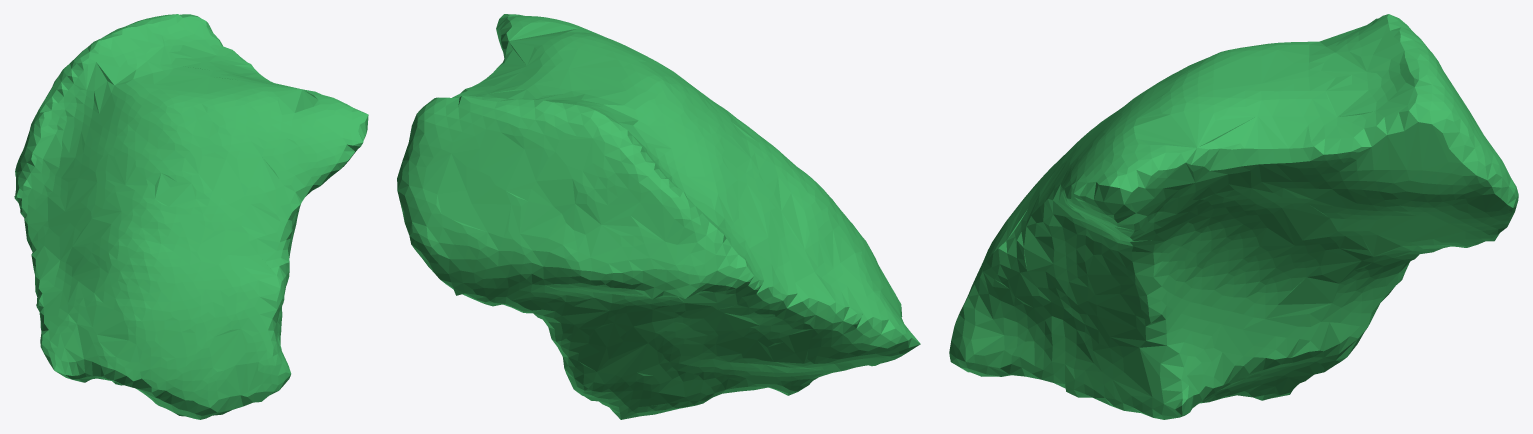
The model's file is Model_10093_LH__Gustatory_cortex_(Gu).obj.
3 views of the same model, side by side, from view 1: azimuth 30°, elevation 25°; view 2: azimuth 150°, elevation 25°; view 3: azimuth 270°, elevation 25° (orthographic). The views are drawn at different scales.
Bounding box in the file's own units: 3.19 × 2.6 × 3.57.
